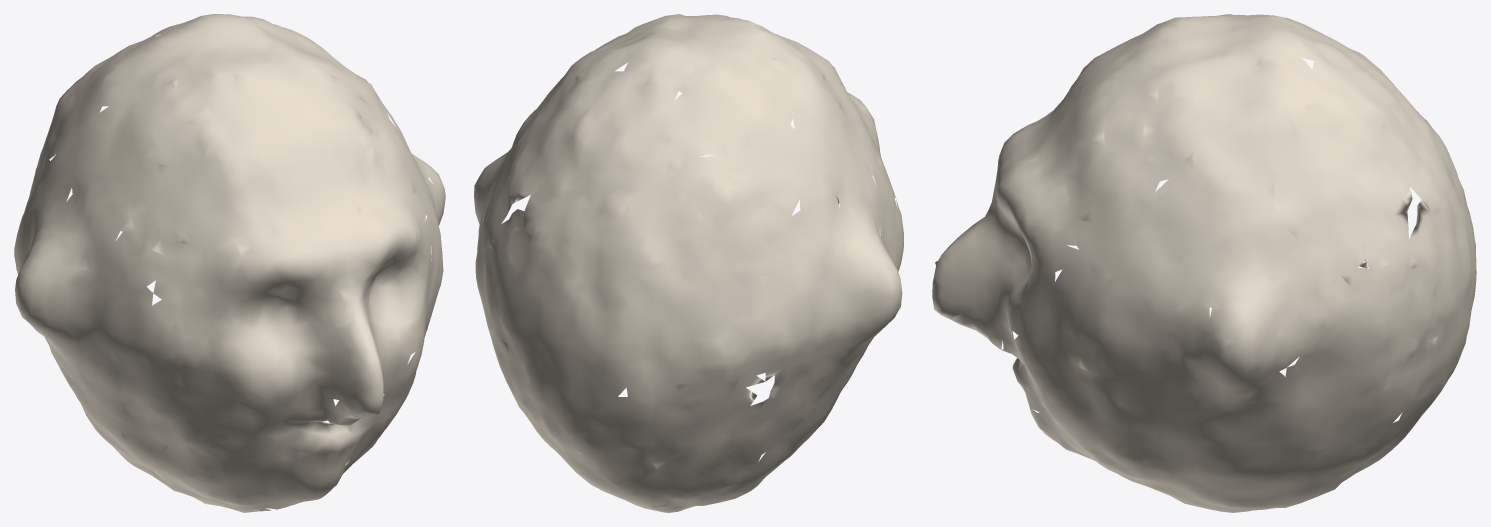
File: SM_HelenKellerBust_LOD1.glb
The picture shows the model from 3 angles, left to right: view 1: azimuth 30°, elevation 25°; view 2: azimuth 150°, elevation 25°; view 3: azimuth 270°, elevation 25°; orthographic projection. The views are drawn at different scales.
Parts seen in each view (by area): view 1: SM_HelenKellerBust_LOD1; view 2: SM_HelenKellerBust_LOD1; view 3: SM_HelenKellerBust_LOD1.
Boxes of the visible parts, box(x1,y1,x2,y2) form: SM_HelenKellerBust_LOD1: box(14, 14, 445, 512); SM_HelenKellerBust_LOD1: box(474, 14, 903, 512); SM_HelenKellerBust_LOD1: box(932, 14, 1476, 512).
Bounding box in the file's own units: 0.5083 × 0.5281 × 0.553.
